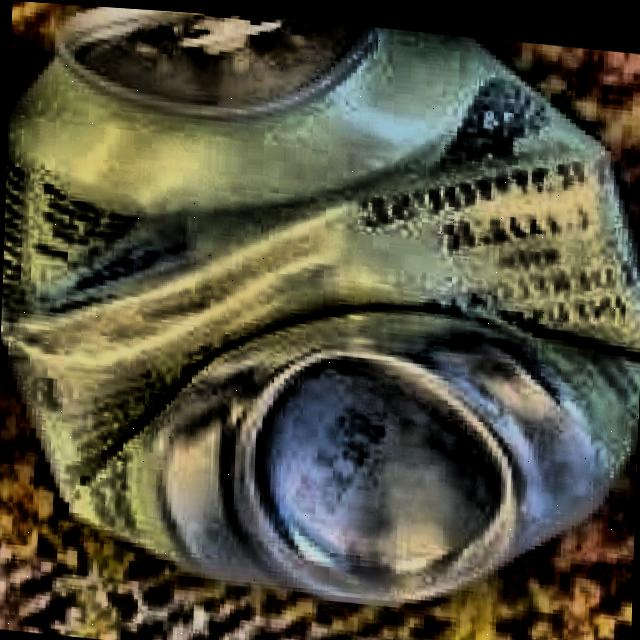metal: (0, 5, 640, 599)
